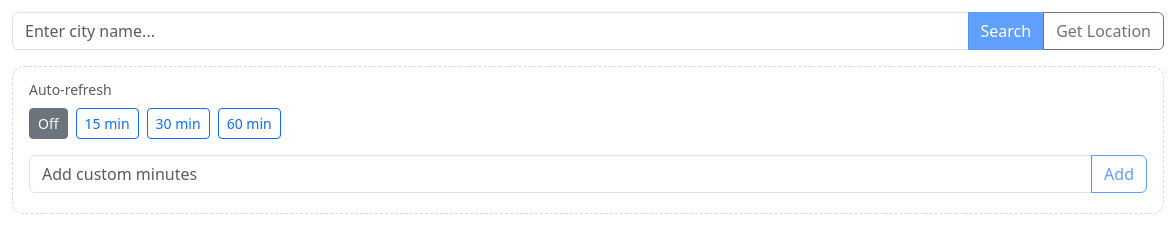
Test: SearchBar › shows loading state while geolocation is pending
Step 1. Click the button "Get Location" → {"x": 1104, "y": 31}, box top-left (1043, 12), bottom-right (1164, 50)
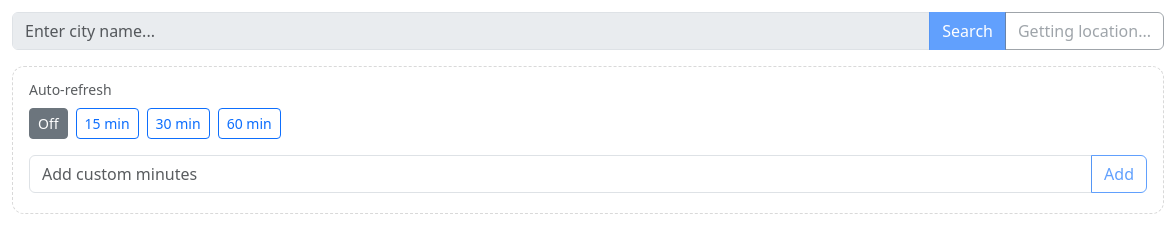
Expected: the field with placeholder "Enter city name..." is disabled, top-left (12, 12), bottom-right (930, 50)
Result: the button "Getting location..." is disabled at top-left (1005, 12), bottom-right (1164, 50)
